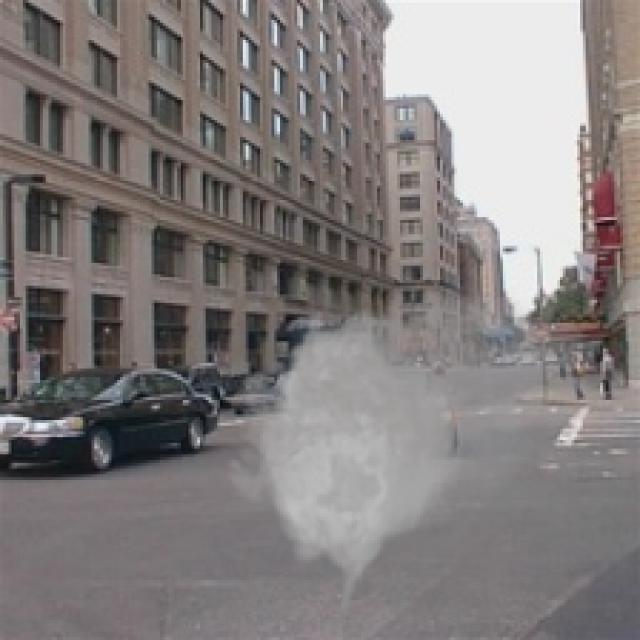smoke: (214, 274, 597, 620)
